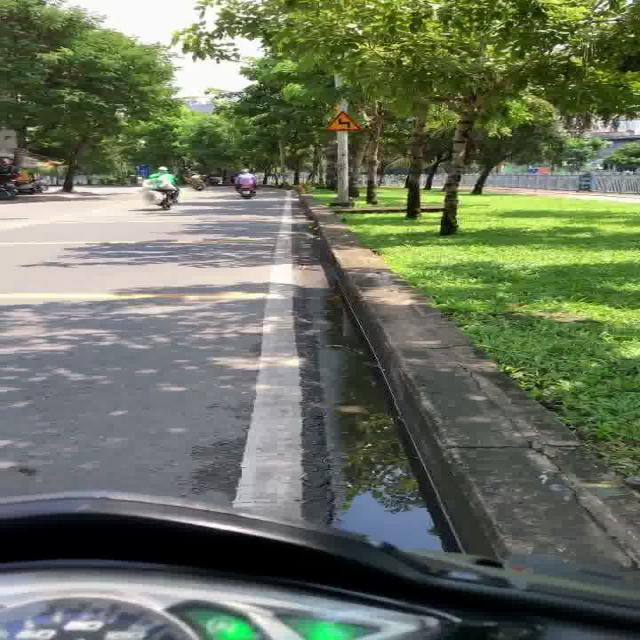Bien bao nhieu cho ngoat nguy hiem lien tiep: (317, 108, 370, 132)
